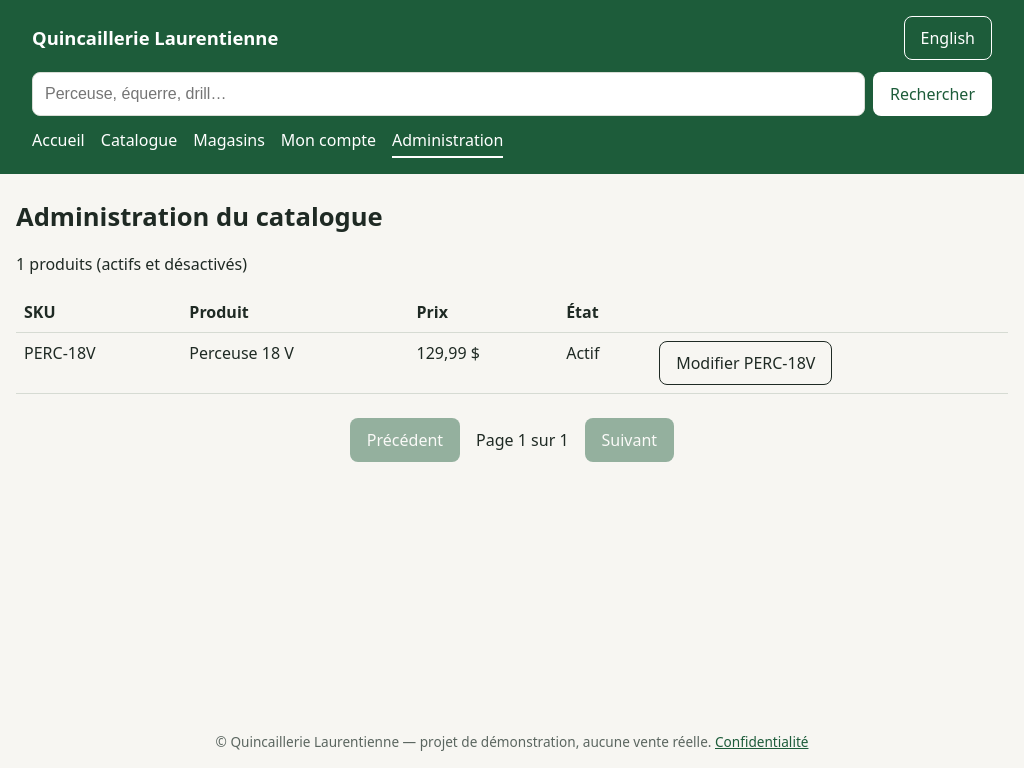
Test: Administration du catalogue (A-ADM-01) › signale l'image principale dans la liste des images
Click the button "Modifier PERC-18V" at (746, 363), box x1=659 y1=341 x2=832 y2=385
(page scrolled)
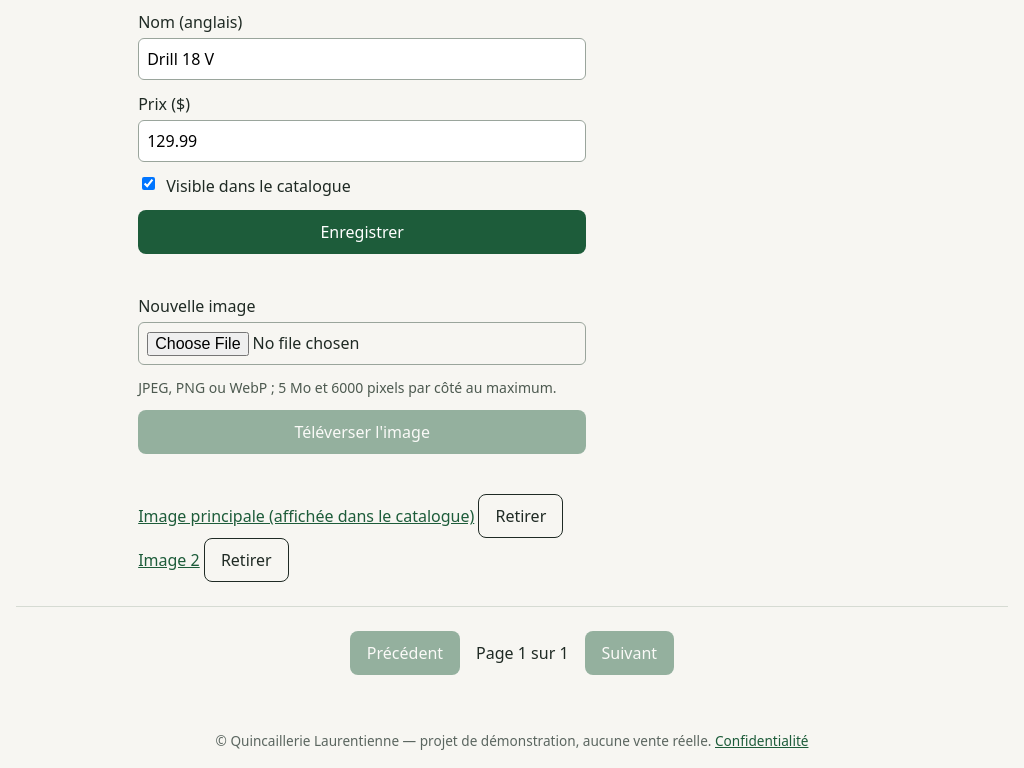
Expected: the link "Image principale (affichée dans le catalogue)" is shown, x1=138 y1=505 x2=474 y2=527
Expected: the link "Image 2" is shown, x1=138 y1=549 x2=200 y2=571
